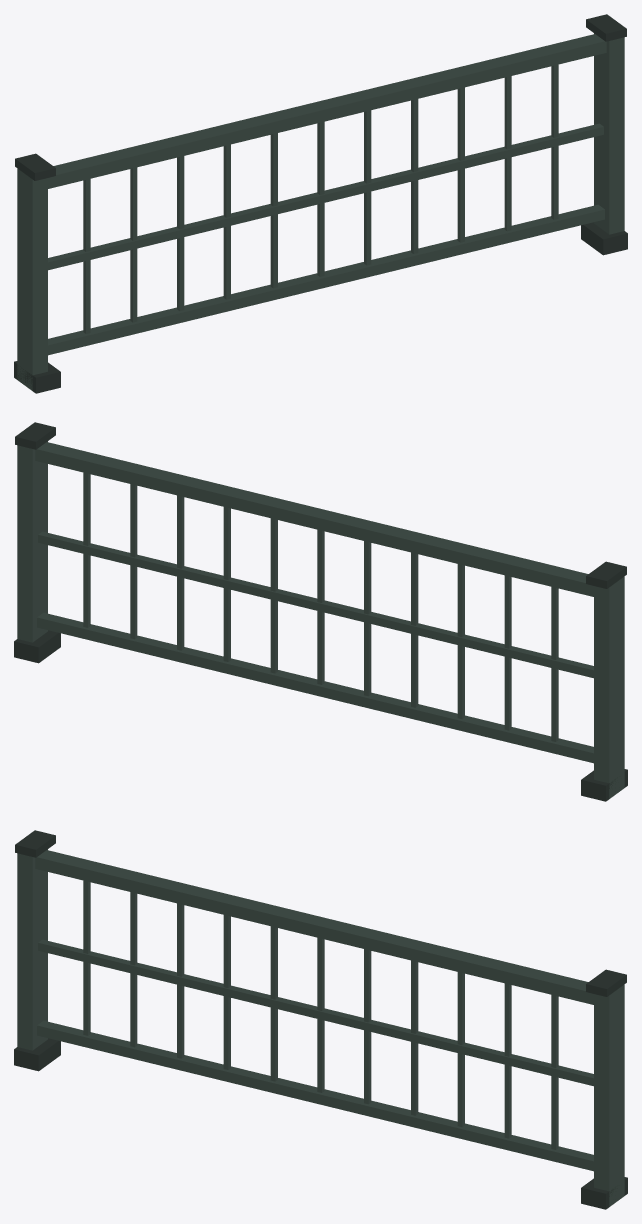
The model's file is sf_waterfront_rail.glb.
3 views of the same model, one above another, from view 1: azimuth 30°, elevation 25°; view 2: azimuth 150°, elevation 25°; view 3: azimuth 330°, elevation 25° (orthographic).
Parts seen in each view (by area): view 1: sf_waterfront_rail; view 2: sf_waterfront_rail; view 3: sf_waterfront_rail.
Boxes of the visible parts, <box> form: sf_waterfront_rail: <box>14,14,627,393</box>; sf_waterfront_rail: <box>14,422,627,801</box>; sf_waterfront_rail: <box>14,830,627,1209</box>.
Size of the model in its own units: 3.1 by 1.1 by 0.1998.
1 material, 1 textured.
